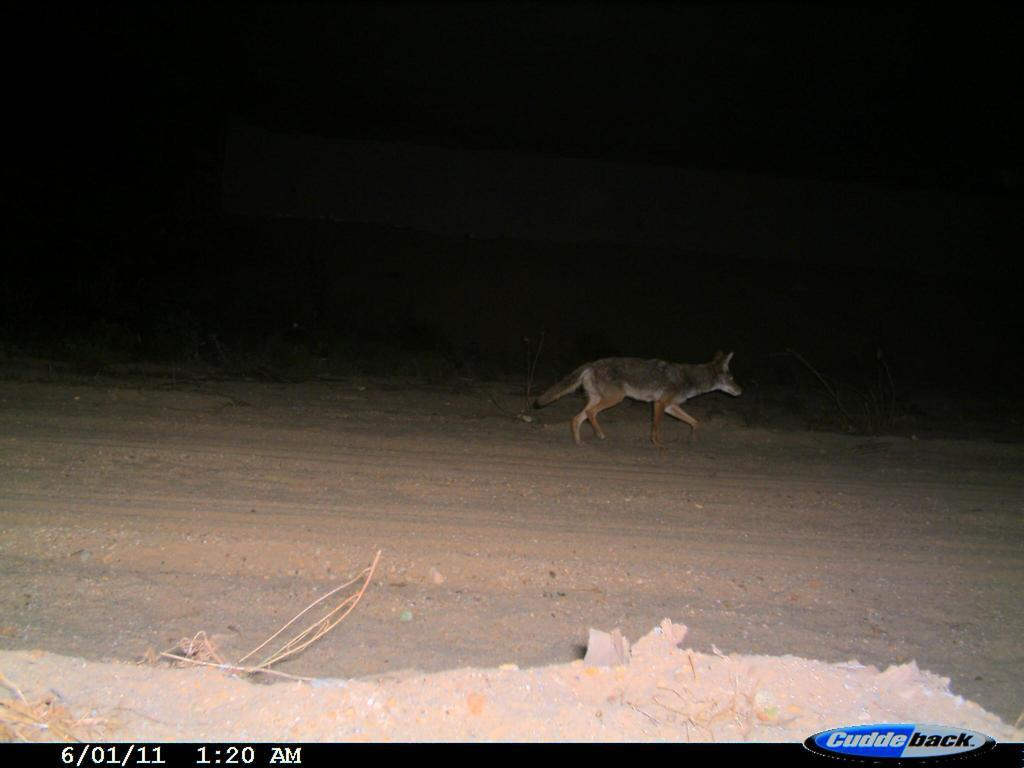coyote: (530, 340, 747, 455)
